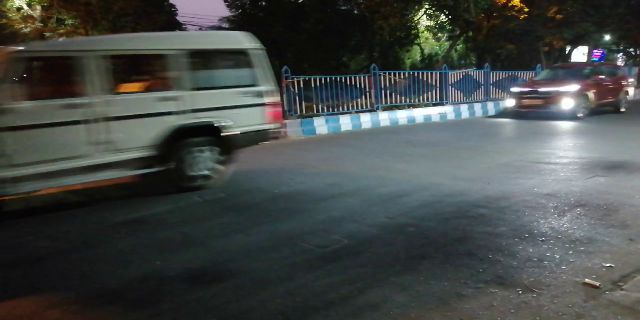Car: (507, 57, 632, 127)
Van: (14, 34, 282, 181)
